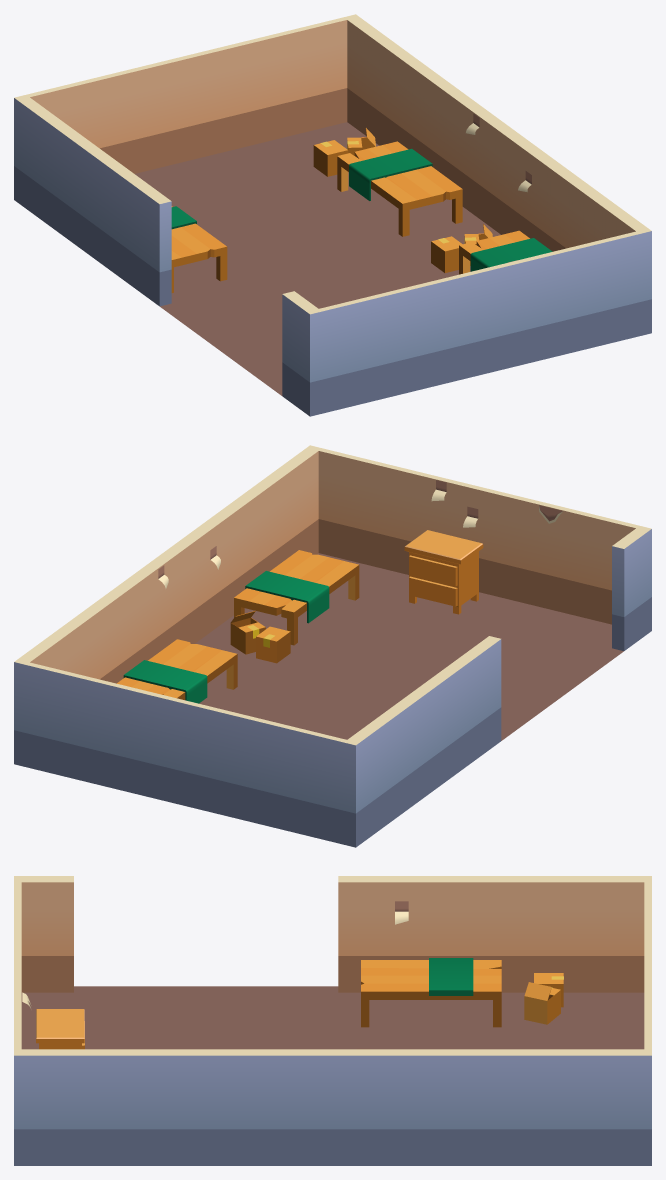
The model's file is Barrack_Lv1_b_Right.fbx.
3 views of the same model, one above another, from view 1: azimuth 30°, elevation 25°; view 2: azimuth 150°, elevation 25°; view 3: azimuth 270°, elevation 25° (orthographic). The views are drawn at different scales.
Visible parts, largest first — view 1: Barrack_Lv1_b_Right3, Barrack_Lv1_b_Right17, Barrack_Lv1_b_Right10, Barrack_Lv1_b_Right9, Barrack_Lv1_b_Right7, Barrack_Lv1_b_Right11, Barrack_Lv1_b_Right1, Barrack_Lv1_b_Right13, Barrack_Lv1_b_Right23, Barrack_Lv1_b_Right18, Barrack_Lv1_b_Right2; view 2: Barrack_Lv1_b_Right3, Barrack_Lv1_b_Right10, Barrack_Lv1_b_Right17, Barrack_Lv1_b_Right9, Barrack_Lv1_b_Right7, Barrack_Lv1_b_Right23, Barrack_Lv1_b_Right21, Barrack_Lv1_b_Right11, Barrack_Lv1_b_Right1, Barrack_Lv1_b_Right6, Barrack_Lv1_b_Right18, Barrack_Lv1_b_Right16; view 3: Barrack_Lv1_b_Right9, Barrack_Lv1_b_Right3, Barrack_Lv1_b_Right7, Barrack_Lv1_b_Right13, Barrack_Lv1_b_Right1, Barrack_Lv1_b_Right10, Barrack_Lv1_b_Right21, Barrack_Lv1_b_Right17, Barrack_Lv1_b_Right22, Barrack_Lv1_b_Right12.
Part boxes in pixels (box(x1,y1,x2,y2)): Barrack_Lv1_b_Right3: box(135, 122, 500, 395); Barrack_Lv1_b_Right17: box(306, 228, 651, 416); Barrack_Lv1_b_Right10: box(14, 14, 357, 200); Barrack_Lv1_b_Right9: box(345, 14, 651, 251); Barrack_Lv1_b_Right7: box(14, 95, 171, 306); Barrack_Lv1_b_Right11: box(337, 141, 462, 236); Barrack_Lv1_b_Right1: box(282, 291, 318, 416); Barrack_Lv1_b_Right13: box(171, 206, 227, 292); Barrack_Lv1_b_Right23: box(459, 230, 552, 274); Barrack_Lv1_b_Right18: box(431, 236, 462, 272); Barrack_Lv1_b_Right2: box(313, 140, 348, 176); Barrack_Lv1_b_Right3: box(195, 553, 623, 740); Barrack_Lv1_b_Right10: box(14, 659, 359, 847); Barrack_Lv1_b_Right17: box(308, 445, 651, 624); Barrack_Lv1_b_Right9: box(14, 445, 321, 683); Barrack_Lv1_b_Right7: box(344, 636, 501, 846); Barrack_Lv1_b_Right23: box(234, 550, 359, 645); Barrack_Lv1_b_Right21: box(404, 530, 483, 614); Barrack_Lv1_b_Right11: box(117, 639, 237, 703); Barrack_Lv1_b_Right1: box(612, 528, 651, 650); Barrack_Lv1_b_Right6: box(158, 480, 562, 588); Barrack_Lv1_b_Right18: box(256, 626, 290, 663); Barrack_Lv1_b_Right16: box(230, 611, 265, 654); Barrack_Lv1_b_Right9: box(14, 1049, 651, 1165); Barrack_Lv1_b_Right3: box(21, 986, 644, 1049); Barrack_Lv1_b_Right7: box(338, 876, 651, 992); Barrack_Lv1_b_Right13: box(361, 958, 501, 1027); Barrack_Lv1_b_Right1: box(21, 876, 73, 992); Barrack_Lv1_b_Right10: box(644, 876, 651, 1165); Barrack_Lv1_b_Right21: box(36, 1009, 84, 1049); Barrack_Lv1_b_Right17: box(14, 876, 21, 1049); Barrack_Lv1_b_Right22: box(524, 982, 560, 1024); Barrack_Lv1_b_Right12: box(534, 973, 563, 1007).
Size of the model in its own units: 700 by 201 by 1050.
